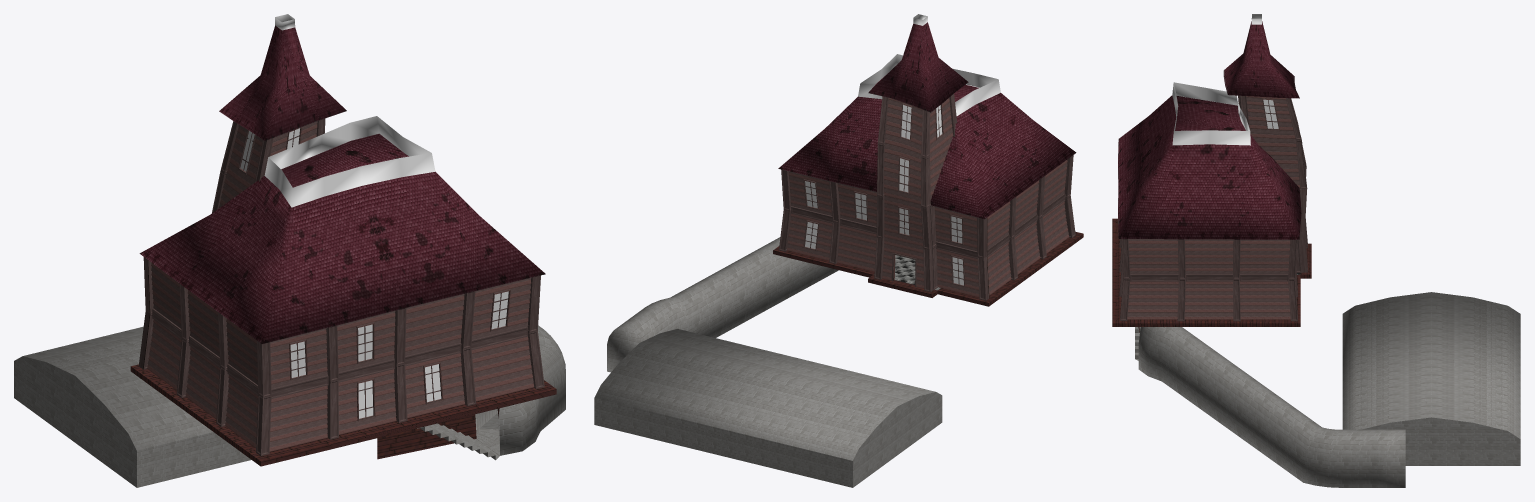
Rendered from House.fbx.
3 views of the same model, side by side, from view 1: azimuth 30°, elevation 25°; view 2: azimuth 150°, elevation 25°; view 3: azimuth 270°, elevation 25° (orthographic). The views are drawn at different scales.
Parts seen in each view (by area): view 1: Cube.021, Cube.007, Cube.006; view 2: Cube.021, Cube.007, Cube.006; view 3: Cube.007, Cube.021.
Boxes of the visible parts, x1,y1,x2,y2 form: Cube.021: (138, 14, 545, 455); Cube.007: (14, 325, 565, 487); Cube.006: (240, 128, 508, 418); Cube.021: (778, 14, 1076, 300); Cube.007: (594, 231, 1083, 487); Cube.006: (805, 104, 963, 285); Cube.007: (1112, 218, 1520, 487); Cube.021: (1118, 14, 1307, 321).
Bounding box in the file's own units: 5093 × 5294 × 5502.
